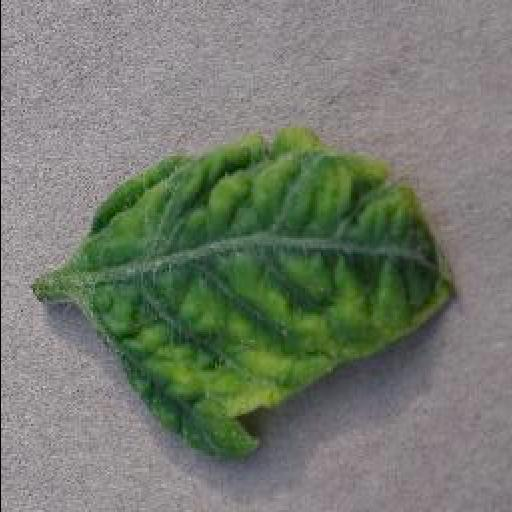disease_tomato: (79, 134, 457, 459)
